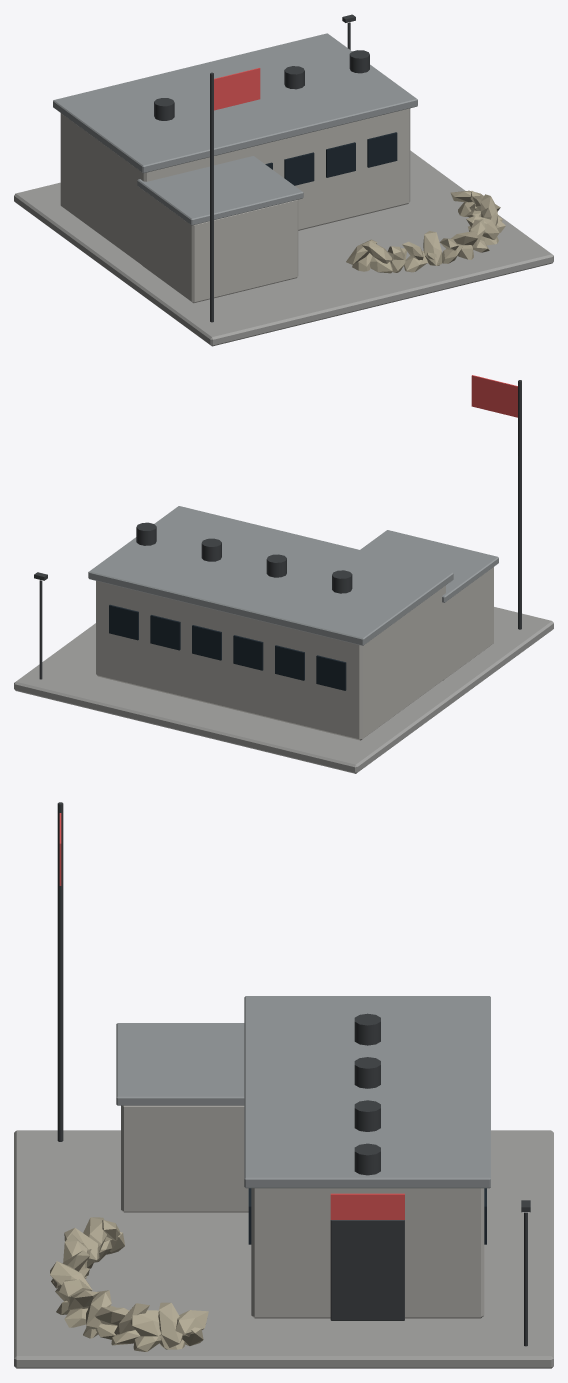
File: barracks.glb
3 views of the same model, one above another, from view 1: azimuth 30°, elevation 25°; view 2: azimuth 150°, elevation 25°; view 3: azimuth 270°, elevation 25° (orthographic). The views are drawn at different scales.
Visible parts, largest first — view 1: Base; view 2: Base; view 3: Base.
Boxes of the visible parts, bbox=[...] form: Base: bbox=[14, 14, 553, 346]; Base: bbox=[14, 375, 553, 773]; Base: bbox=[14, 802, 553, 1368].
Bounding box in the file's own units: 11.6 × 8.3 × 11.6.
